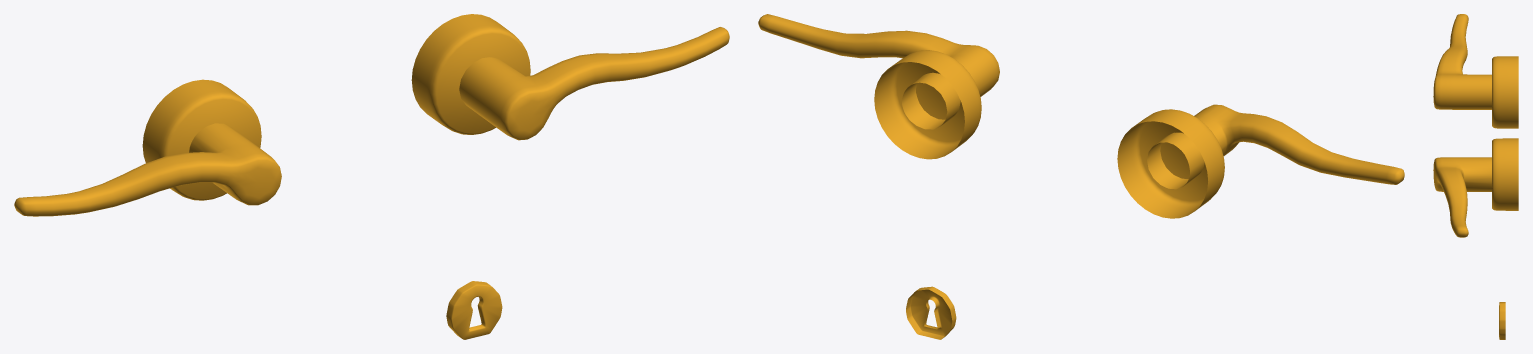
Rendered from Doors_Handle.fbx.
3 views of the same model, side by side, from view 1: azimuth 30°, elevation 25°; view 2: azimuth 150°, elevation 25°; view 3: azimuth 270°, elevation 25° (orthographic). The views are drawn at different scales.
Parts seen in each view (by area): view 1: Doors_high.001; view 2: Doors_high.001; view 3: Doors_high.001.
Part boxes in pixels (left/top/right/bottom): Doors_high.001: left=14, top=14, right=729, bottom=339; Doors_high.001: left=758, top=14, right=1404, bottom=339; Doors_high.001: left=1433, top=14, right=1518, bottom=339.
Bounding box in the file's own units: 38.17 × 15.95 × 6.32.
